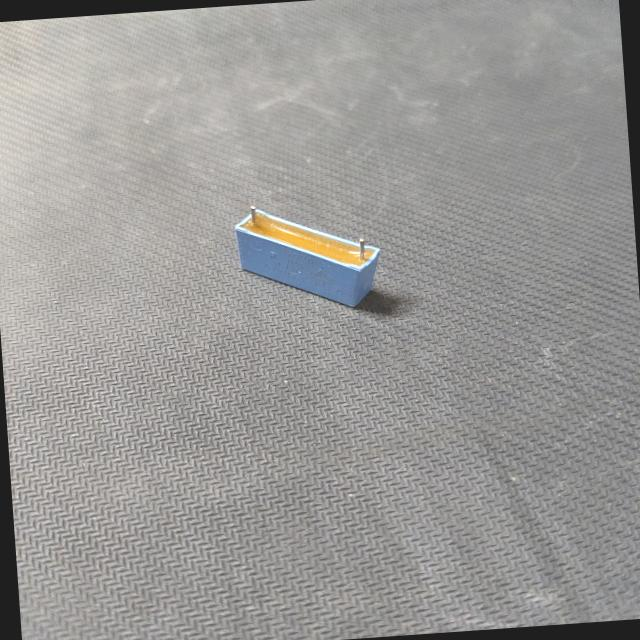capacitor: (210, 178, 393, 322)
